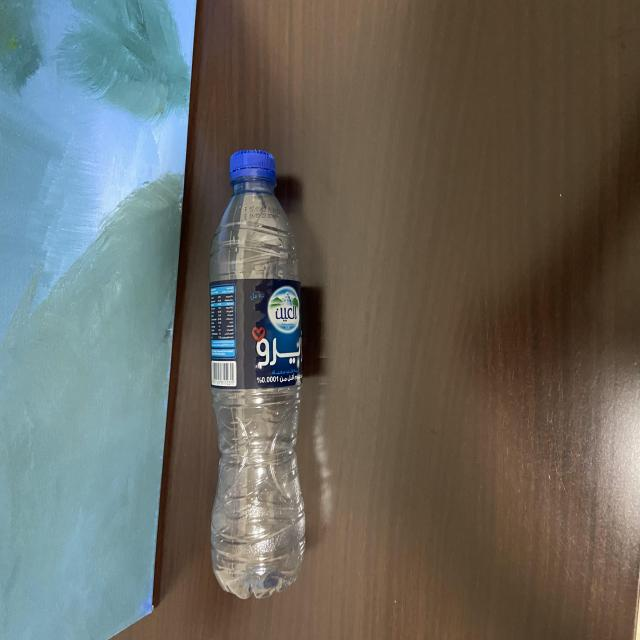bottle: (199, 130, 313, 624)
